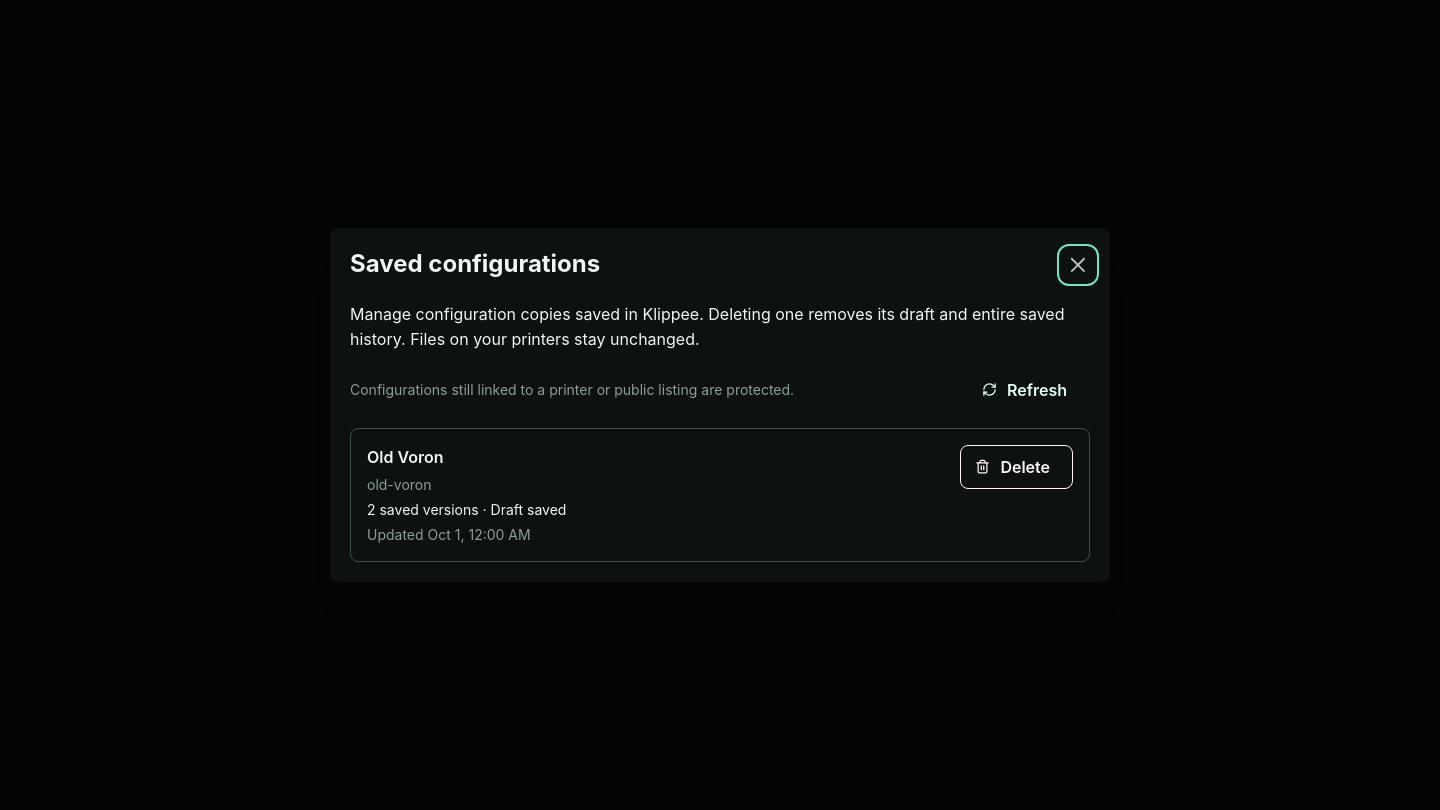
Test: saved configurations › reloads stale protection after a conflict and requires a new confirmation
What coordinates should you click on to do the following:
click the button with aria-label "Delete Old Voron"
I would click on:
 (1016, 467)
Its box is [960, 445, 1073, 489].
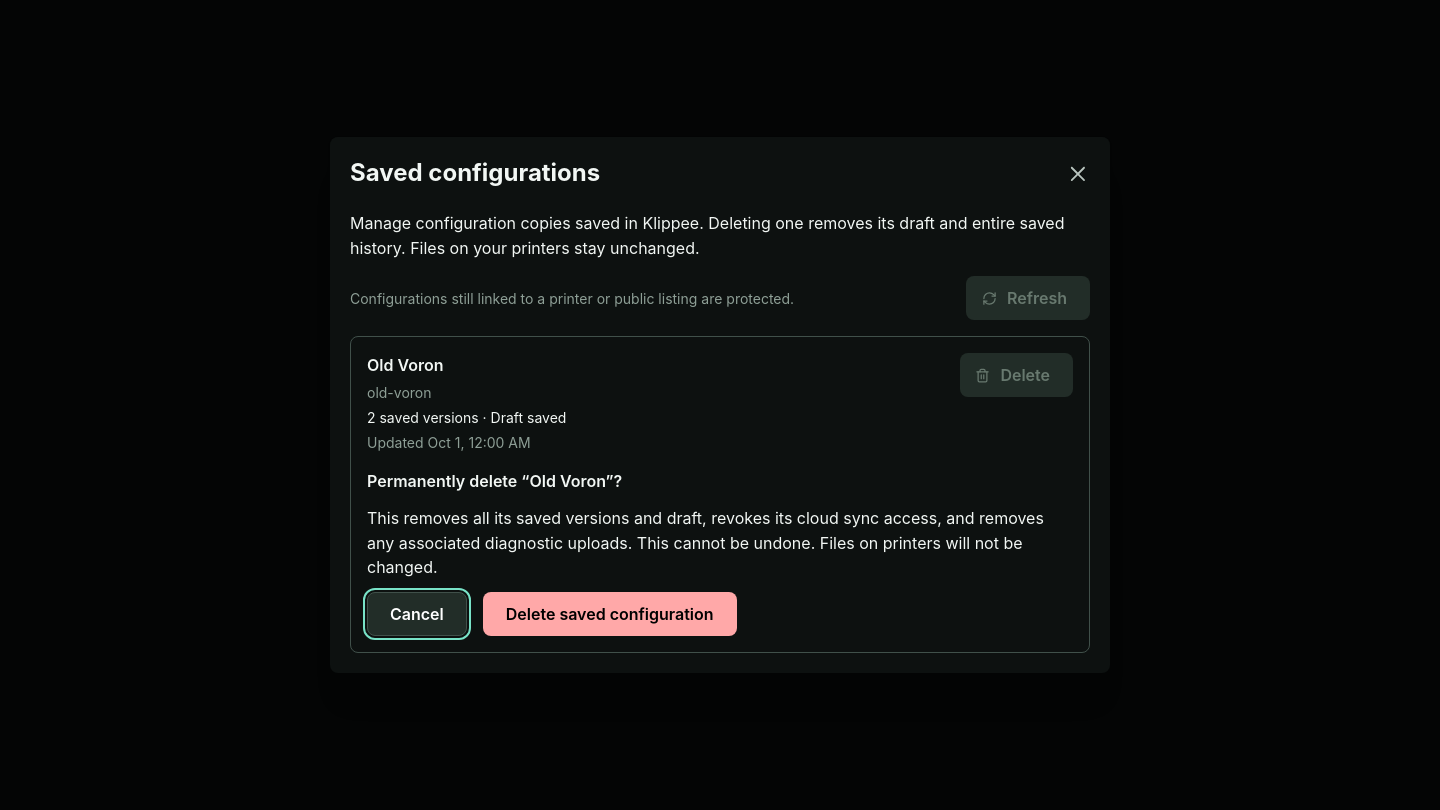
What coordinates should you click on to do the following:
click the button "Delete saved configuration"
I would click on:
 (610, 614)
Its box is [483, 592, 736, 636].
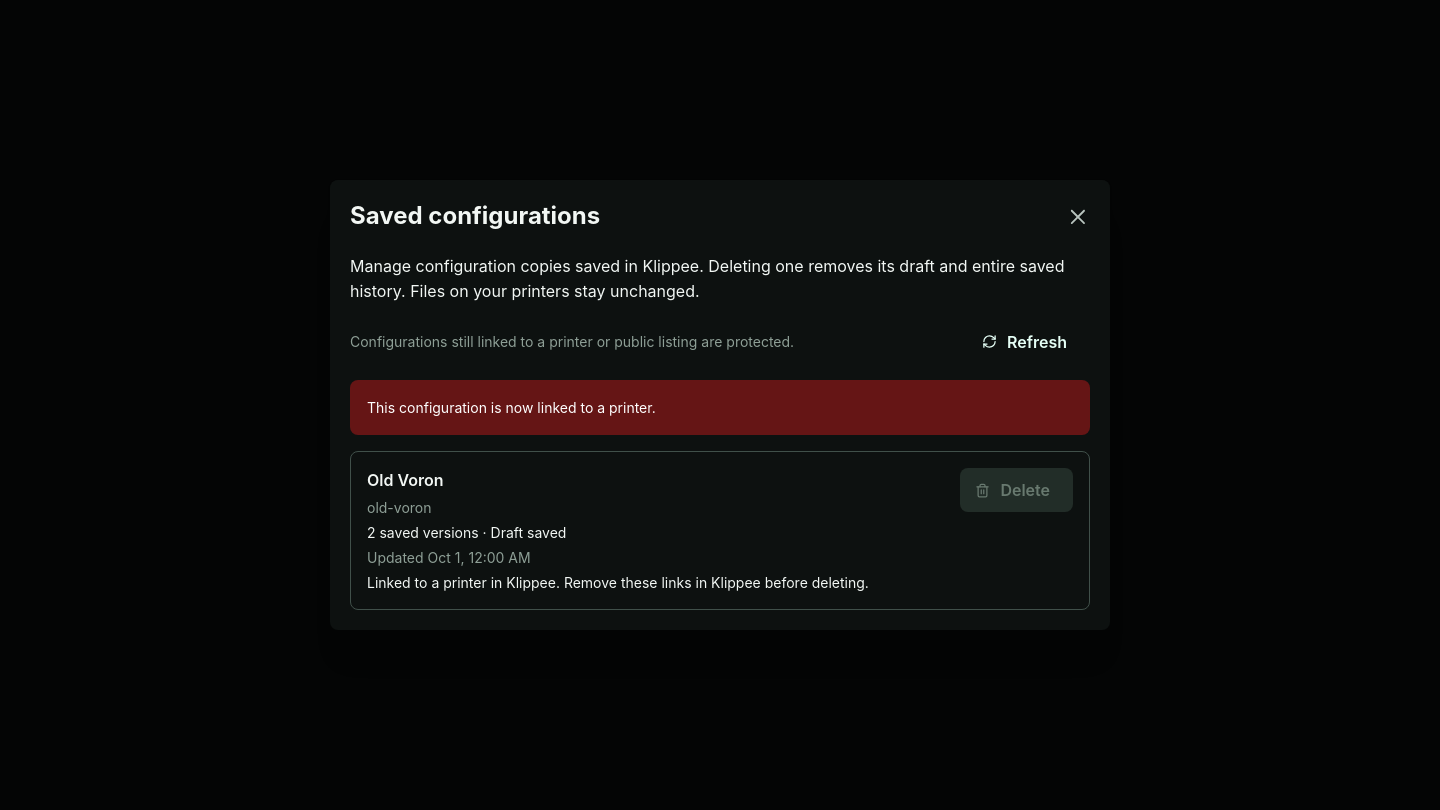
Expected: the button with aria-label "Delete Old Voron" is disabled, [960, 468, 1073, 512]
Expected: the message "This configuration is now linked to a printer." is shown, [350, 380, 1090, 435]
Expected: the message shows "now linked to a printer", [367, 398, 656, 416]
